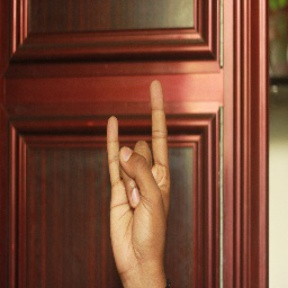V: (102, 75, 174, 265)
